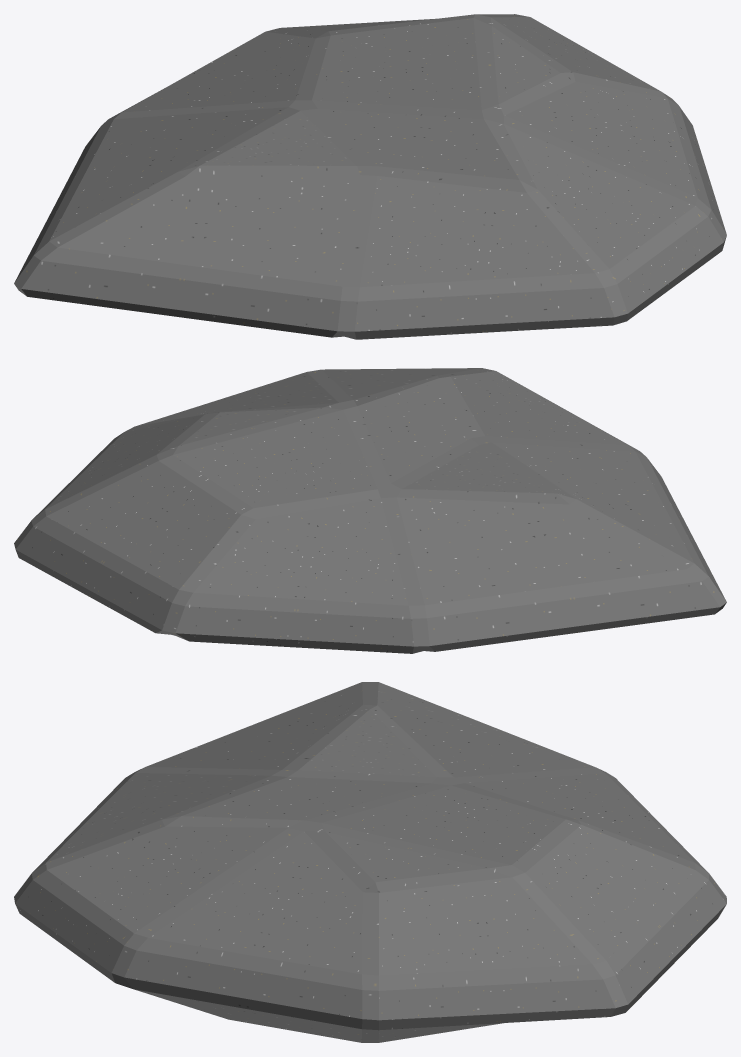
File: rock1.fbx
3 views of the same model, one above another, from view 1: azimuth 30°, elevation 25°; view 2: azimuth 150°, elevation 25°; view 3: azimuth 270°, elevation 25° (orthographic). The views are drawn at different scales.
Visible parts, largest first — view 1: Cylinder; view 2: Cylinder; view 3: Cylinder.
Boxes of the visible parts, x1=… form: Cylinder: x1=14, y1=14, x2=726, y2=339; Cylinder: x1=14, y1=368, x2=726, y2=653; Cylinder: x1=14, y1=682, x2=726, y2=1042.
Size of the model in its own units: 379 by 79.5 by 353.
